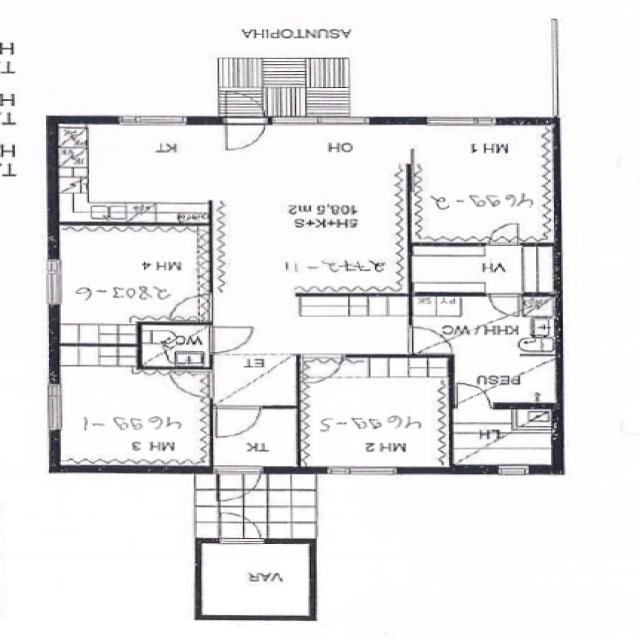door: (218, 468, 260, 503), (226, 116, 265, 150), (226, 90, 265, 124), (216, 406, 258, 437), (302, 354, 343, 385), (221, 512, 260, 544), (168, 293, 213, 320), (169, 372, 213, 398), (407, 327, 452, 352), (208, 328, 250, 352), (457, 382, 490, 408), (489, 223, 518, 245), (490, 293, 518, 315)
